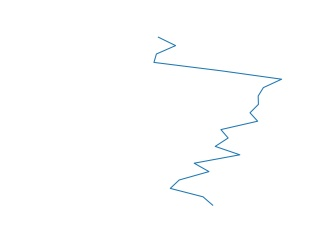floodPlain: (153, 36, 284, 208)
